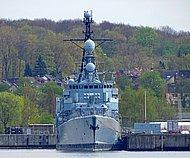MIL_Ship: (51, 7, 124, 152)
